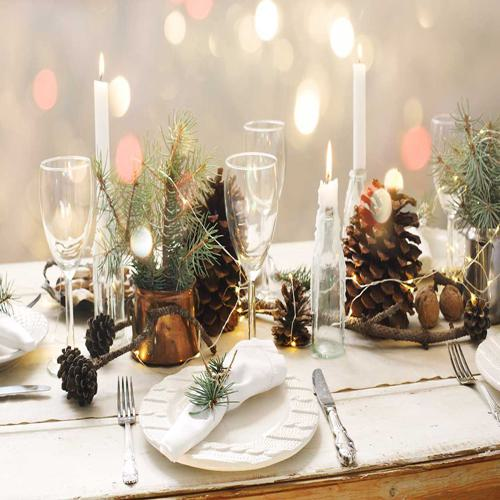copa: (40, 159, 101, 380), (222, 155, 281, 361), (243, 121, 285, 304), (432, 115, 471, 287)
